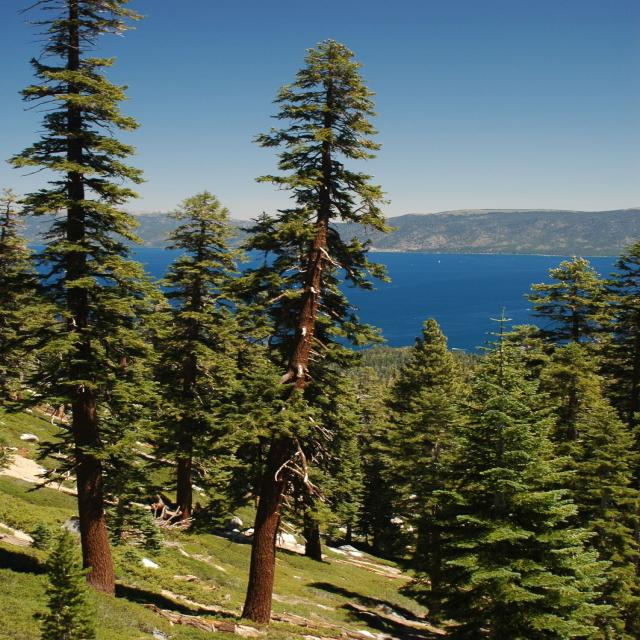Abies: (0, 0, 206, 606), (216, 33, 400, 635)
